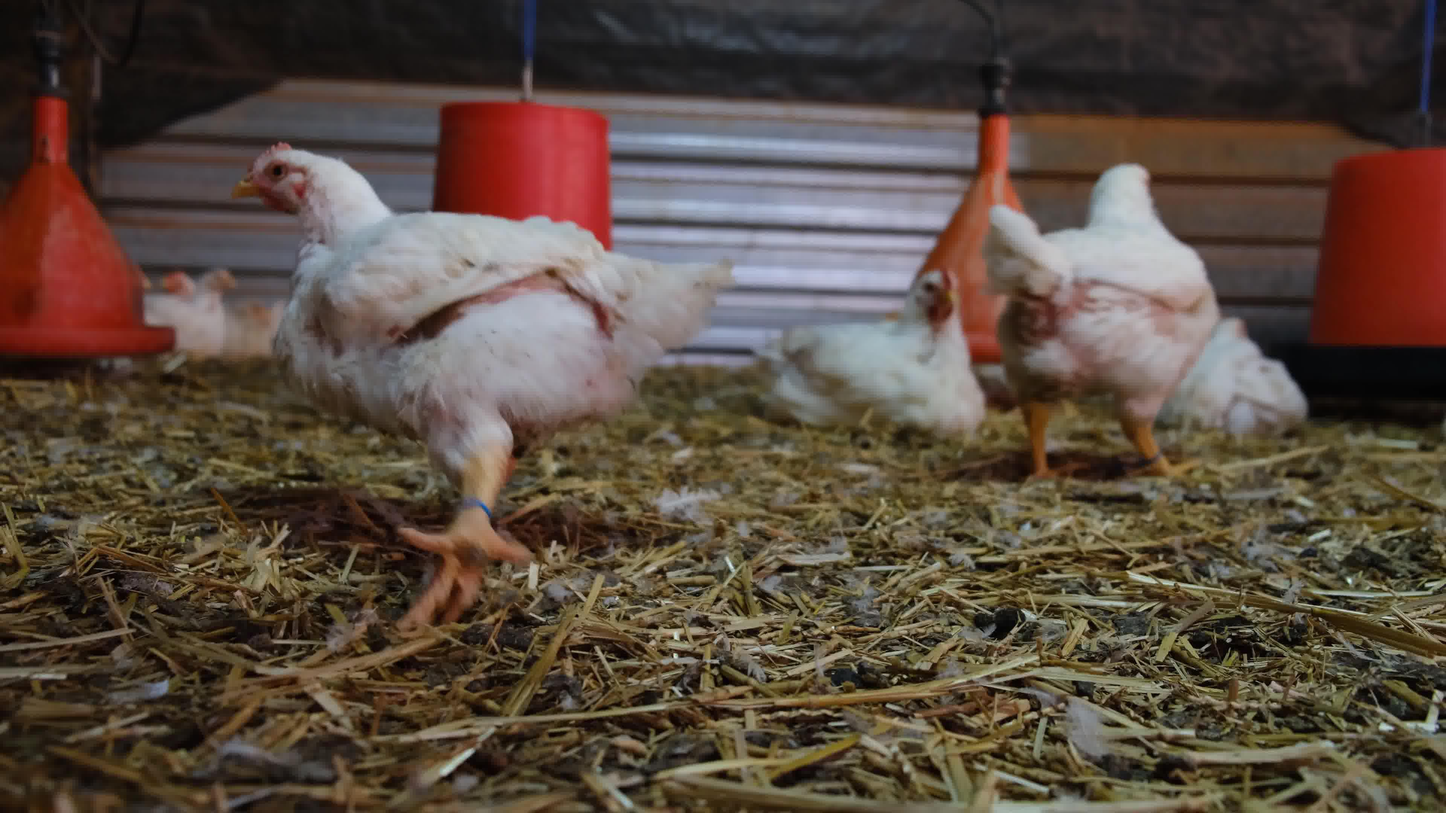AbNormal: (766, 273, 996, 461), (1199, 305, 1324, 452), (224, 286, 309, 367)
Normal: (232, 139, 734, 630), (968, 158, 1256, 514), (124, 256, 249, 375)
